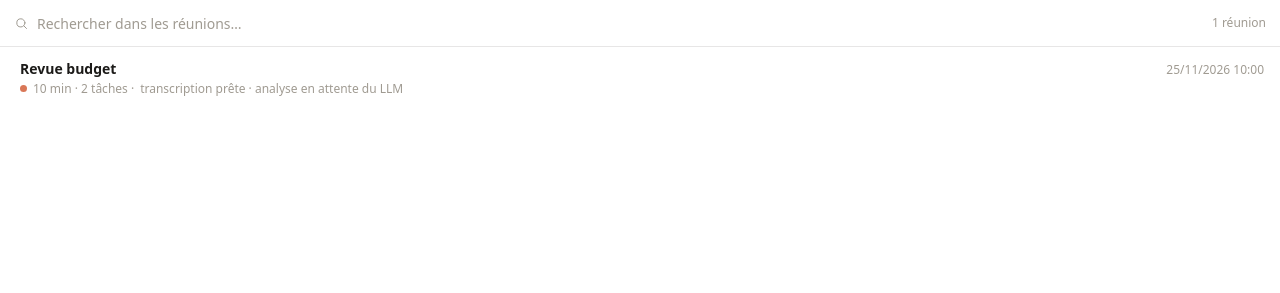
Test: analysis in the meeting detail › explains why the analysis is waiting
The image size is (1280, 293).
Step 1. Click the text "Revue budget" → (68, 68), box [20, 59, 116, 78]
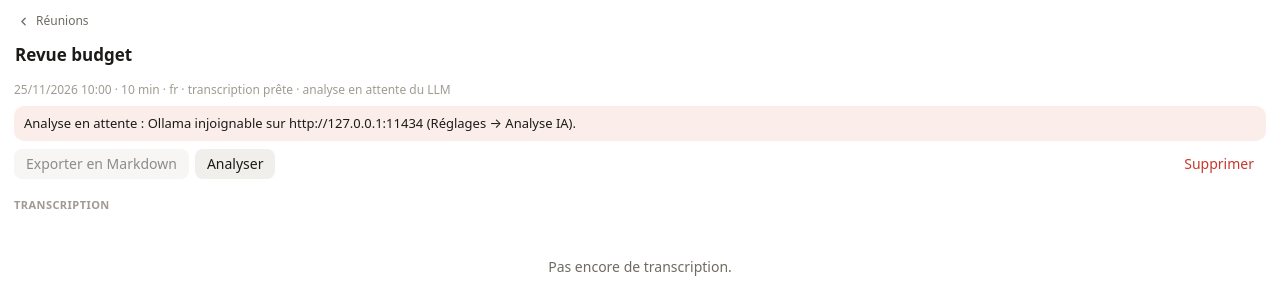
Expected: the text "Ollama injoignable" is shown, [148, 114, 423, 132]
